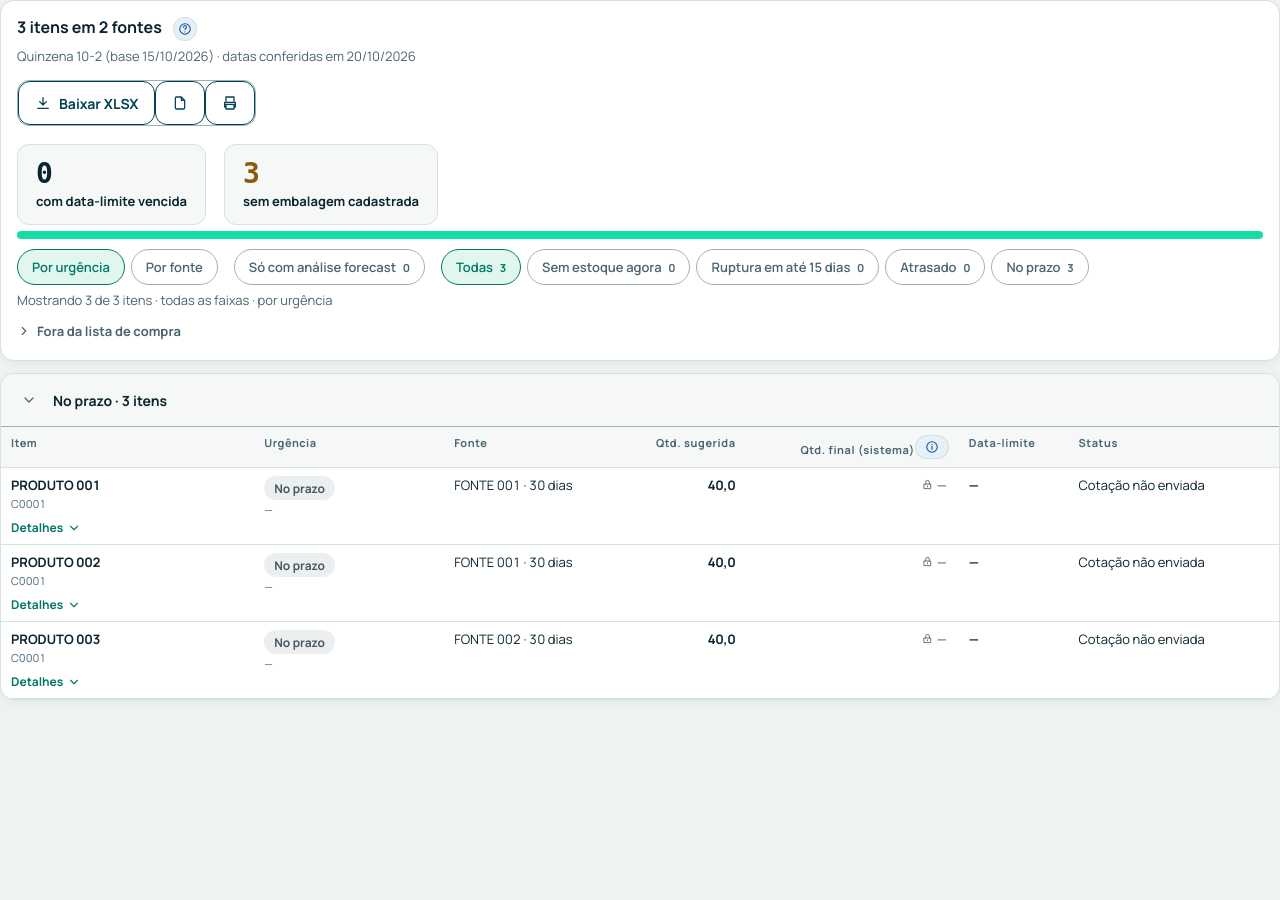
ForecastRelatorioCompras - filtro "so com analise forecast" › sem nenhuma analise preenchida: avisa em vez de tela vazia
Expected: the text "3 itens em 2 fontes" is shown, [17,16,197,41]
Click the button "Só com análise forecast 0" at (329, 267), box [234,249,425,285]
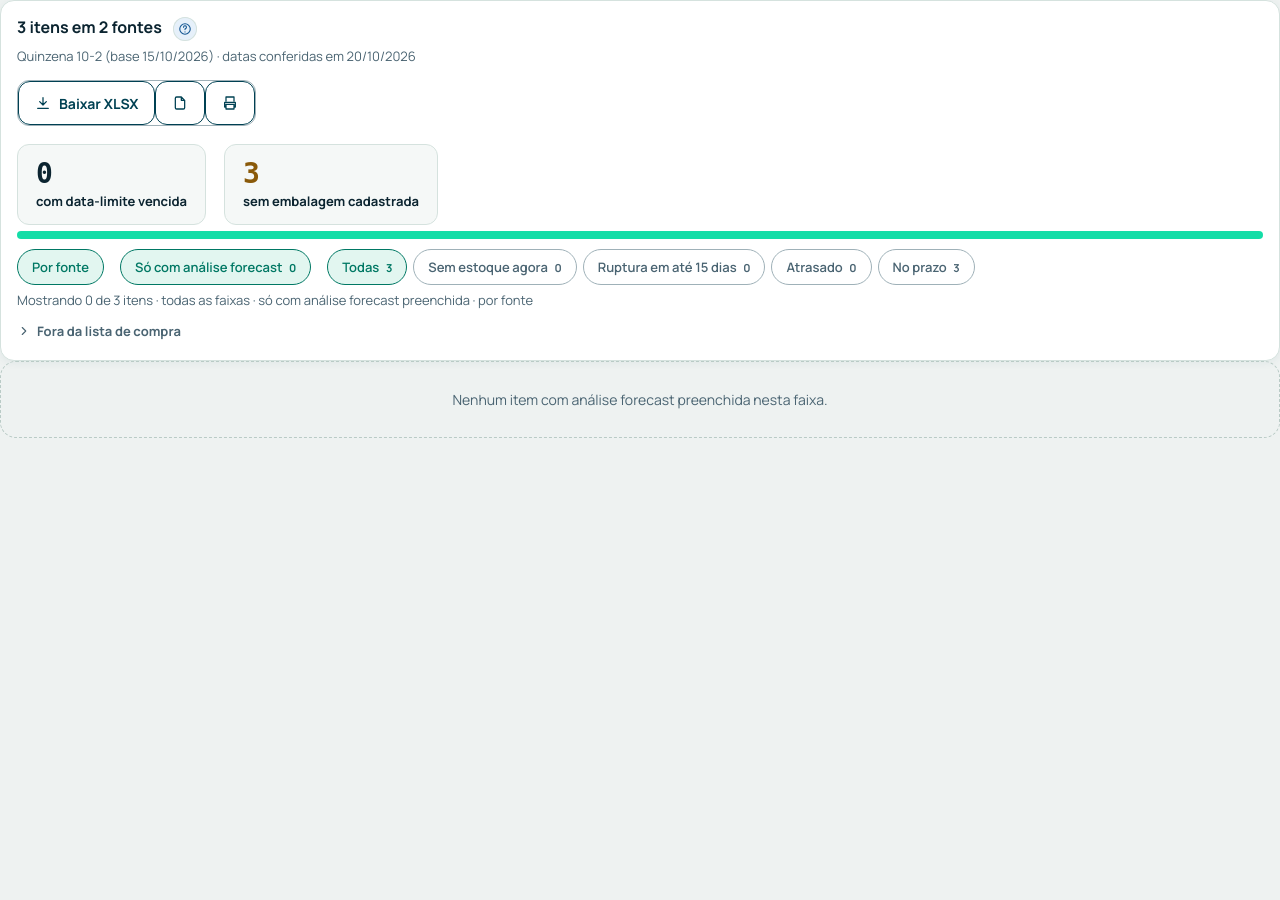
Expected: the text "Nenhum item com análise forecast preenchida nesta faixa." is shown, [0,362,1279,438]
